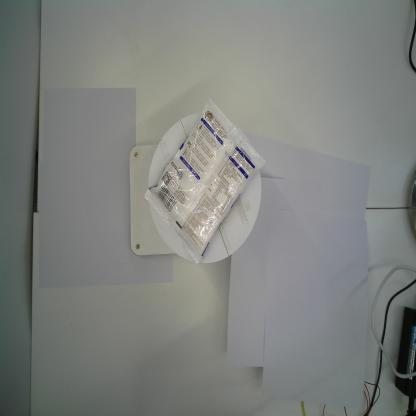Seasoner: (144, 97, 265, 265)
